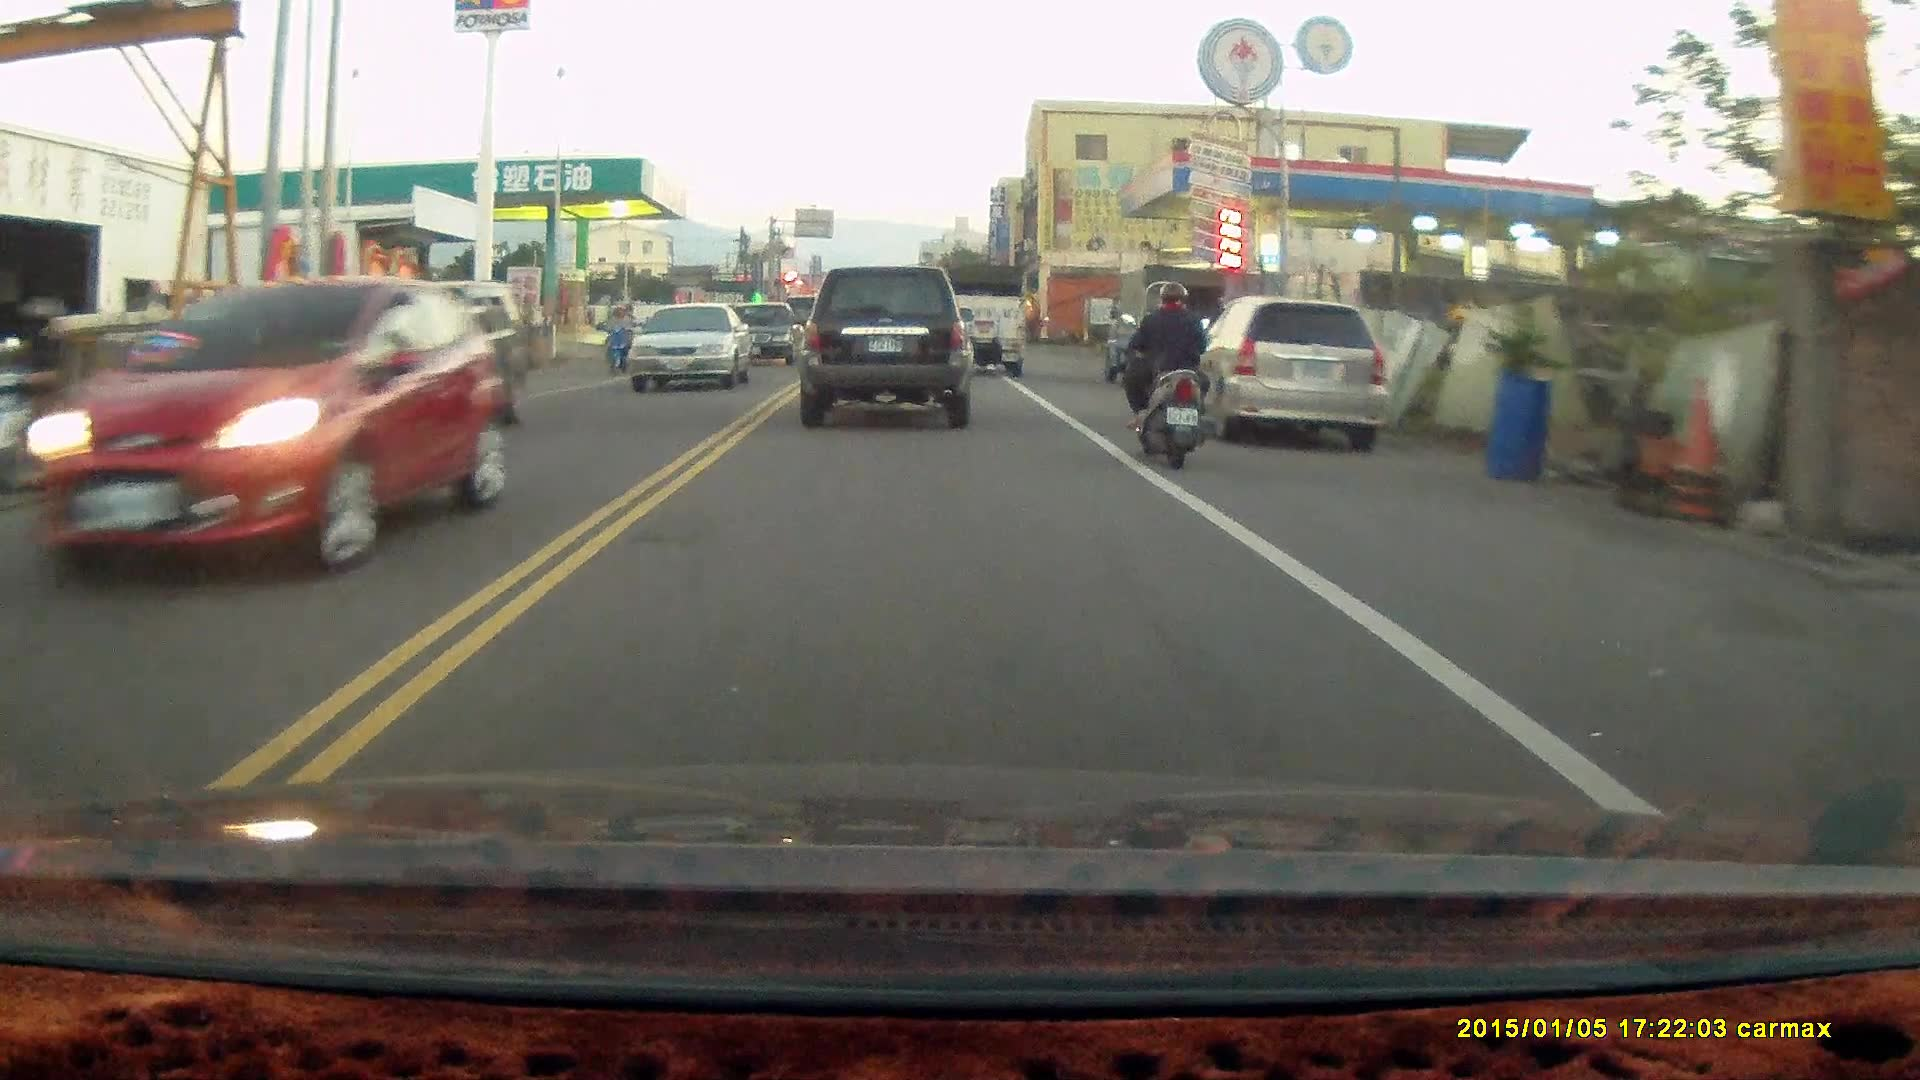rider: (0, 293, 93, 496), (1115, 274, 1212, 462), (598, 300, 641, 375)
vehicle: (28, 272, 503, 575), (289, 277, 520, 450), (1188, 293, 1396, 453), (794, 263, 971, 428), (1105, 263, 1231, 379), (627, 302, 756, 392), (937, 258, 1024, 375), (725, 301, 805, 364)
